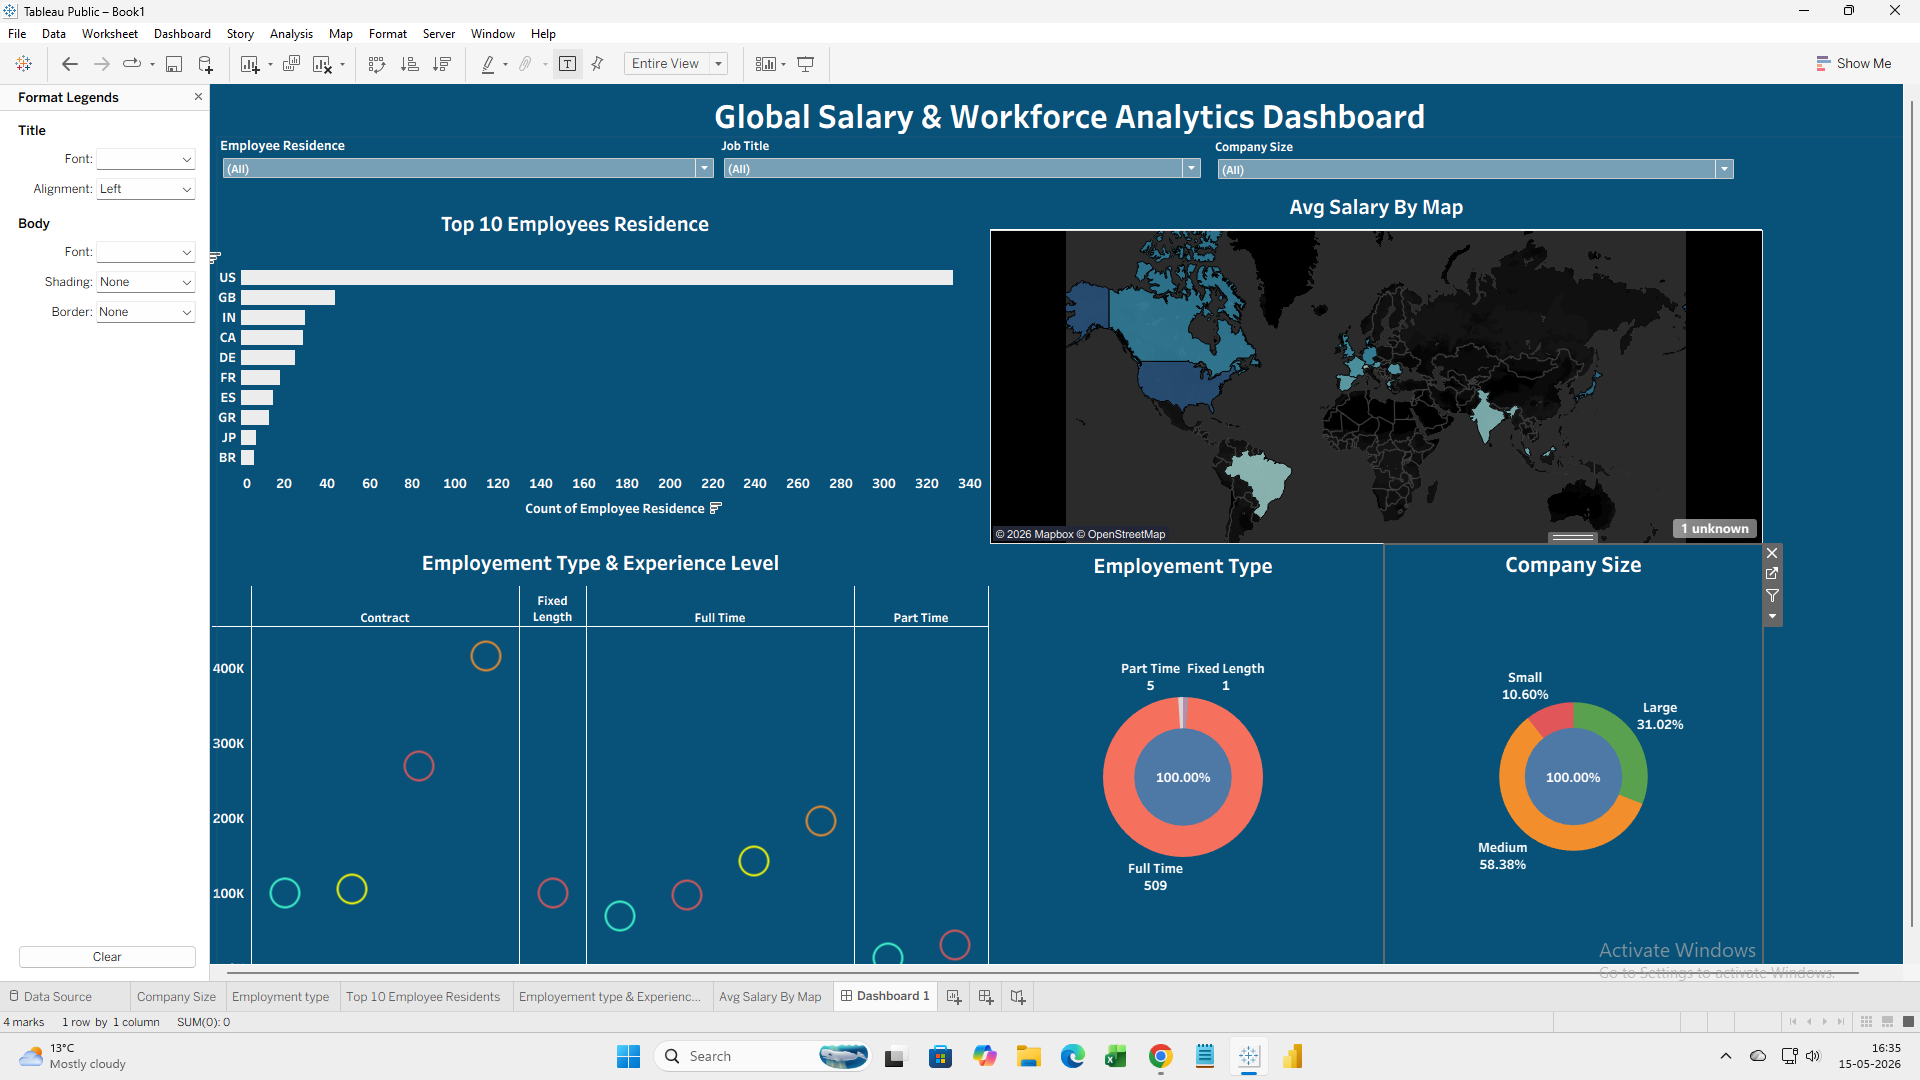

What the dashboard file says about the page in this screenshot:
{"tool":"tableau","page":{"name":"Dashboard 1","canvas":[1720,900],"ordinal":0},"visuals":[{"type":"title","box":[8,8,1704,46]},{"type":"filter","title":"Top 10 Employee Residents","param":"[federated.1hdfjbk0nf04ka129d1es04fafvj].[none:employee_residence:nk]","box":[10,52,497,58]},{"type":"filter","title":"Employement type & Experience Level","param":"[federated.1hdfjbk0nf04ka129d1es04fafvj].[none:job_title:nk]","box":[511,53,483,58]},{"type":"filter","title":"Employement type & Experience Level","param":"[federated.1hdfjbk0nf04ka129d1es04fafvj].[none:company_size:nk]","box":[1005,54,522,48]},{"type":"worksheet","title":"Avg Salary By Map","mark":"Automatic","box":[780,104,773,356]},{"type":"worksheet","title":"Company Size","mark":"Pie","rows":["Calculation_0286699568738305","Calculation_0286699568738305"],"box":[1175,461,377,419]},{"type":"worksheet","title":"Employment type","mark":"Pie","rows":["Calculation_0286699568738305","Calculation_0286699568738305"],"box":[782,463,382,418]}]}

Visuals, with their boxes on the page's 1720x900 design canvas (x1, y1, x2, y2). These are canvas units, not pixel positions in the 1920x1080 screenshot, which may show the page scaled, cropped or inside an application window:
title: (8,8,1712,54)
"Top 10 Employee Residents" filter: (10,52,507,110)
"Employement type & Experience Level" filter: (511,53,994,111)
"Employement type & Experience Level" filter: (1005,54,1527,102)
"Avg Salary By Map" worksheet: (780,104,1553,460)
"Company Size" worksheet (Pie marks): (1175,461,1552,880)
"Employment type" worksheet (Pie marks): (782,463,1164,881)
